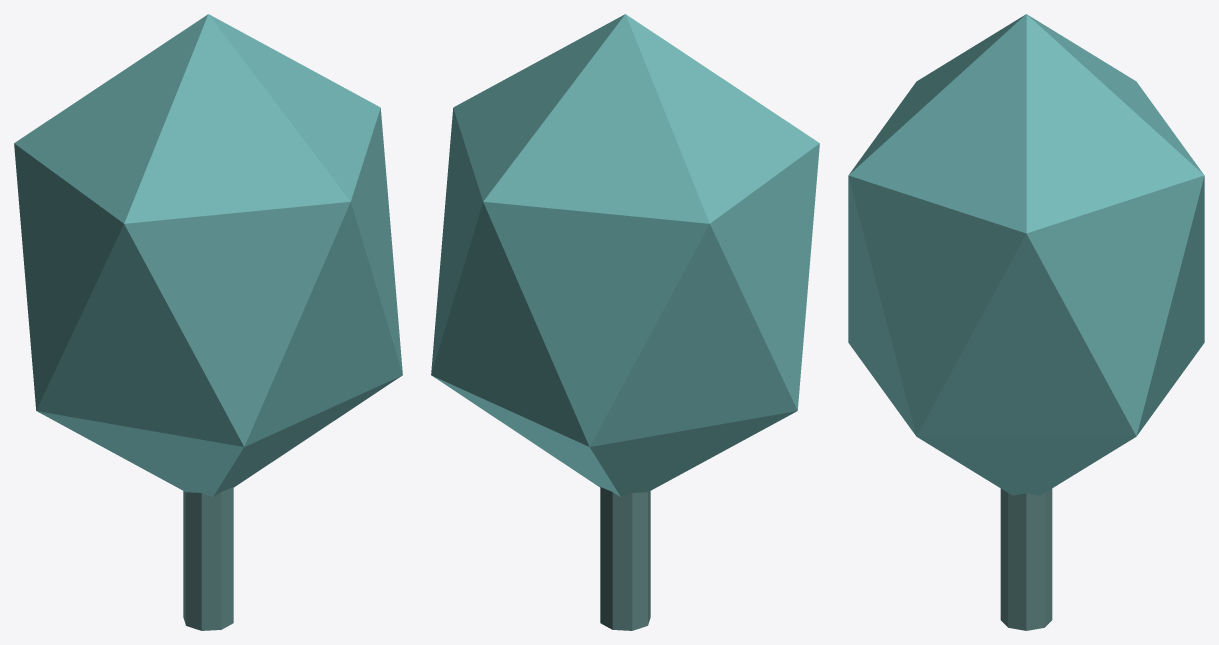
File: campus_tree_round_bare_v01.glb
3 renders of one model, left to right at view 1: azimuth 30°, elevation 25°; view 2: azimuth 150°, elevation 25°; view 3: azimuth 270°, elevation 25°, orthographic.
Parts seen in each view (by area): view 1: campus_tree_round_bare; view 2: campus_tree_round_bare; view 3: campus_tree_round_bare.
Part boxes in pixels (x1,y1,x2,y2): campus_tree_round_bare: (14,14,402,630); campus_tree_round_bare: (431,14,819,630); campus_tree_round_bare: (848,14,1204,630).
Size of the model in its own units: 2.15 by 3.61 by 1.92.
Materials: 1 (1 with a texture image).
